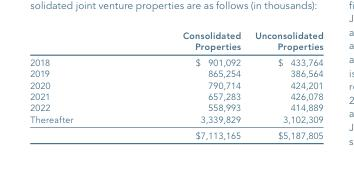table: (29, 29, 322, 140)
table column: (127, 29, 247, 140), (29, 29, 127, 140), (247, 29, 322, 140)
table column header: (29, 29, 322, 53)
table row: (29, 29, 322, 53), (29, 53, 322, 67), (29, 126, 322, 140), (29, 113, 322, 126), (29, 67, 322, 79), (29, 101, 322, 113), (29, 79, 322, 90), (29, 90, 322, 101)
